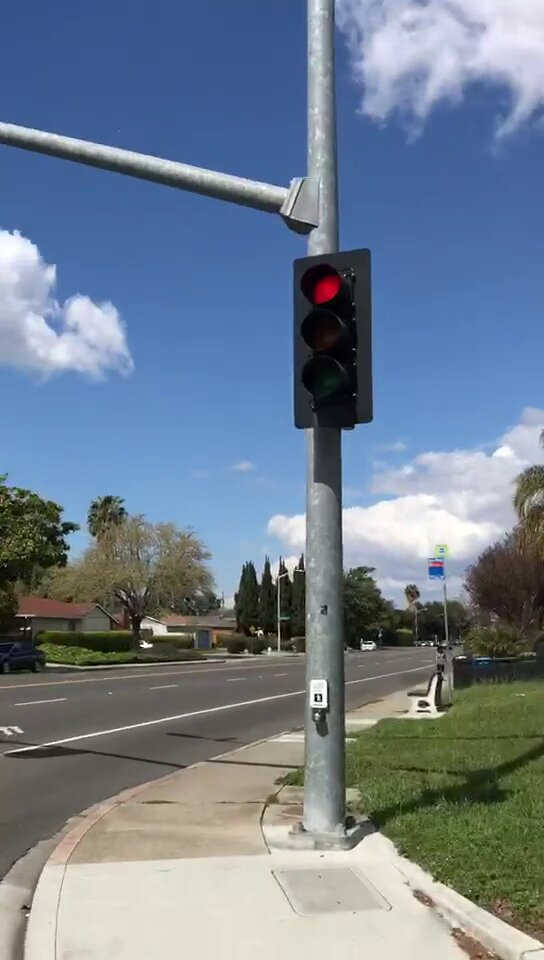red_light: (292, 256, 371, 422)
